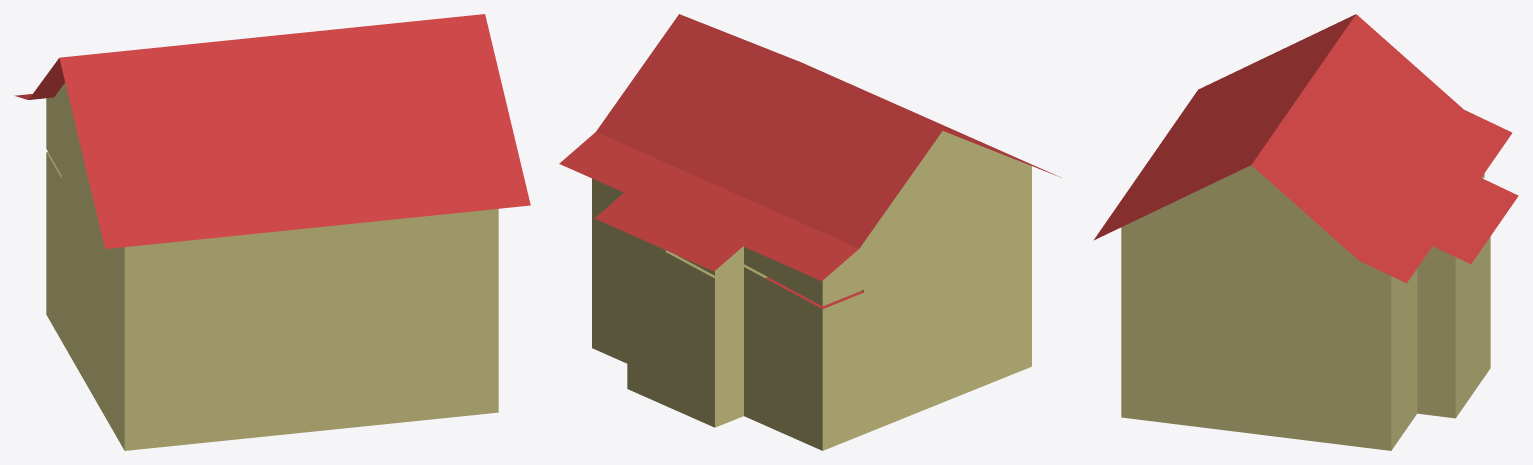
3 renders of one model, left to right at view 1: azimuth 30°, elevation 25°; view 2: azimuth 150°, elevation 25°; view 3: azimuth 270°, elevation 25°, orthographic. The views are drawn at different scales.
Bounding box in the file's own units: 14.88 × 14.08 × 10.17.
